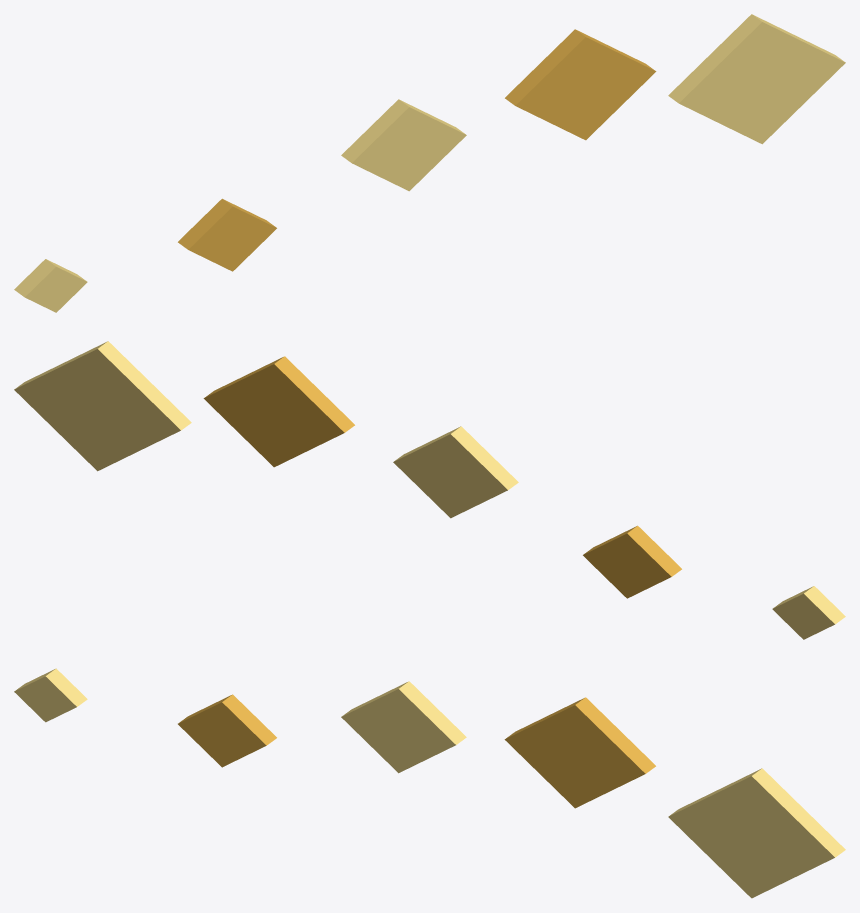
Rendered from help_orb_trail.glb.
The picture shows the model from 3 angles, top to bottom: view 1: azimuth 30°, elevation 25°; view 2: azimuth 150°, elevation 25°; view 3: azimuth 330°, elevation 25°; orthographic projection.
Parts seen in each view (by area): view 1: trail; view 2: trail; view 3: trail.
Boxes of the visible parts, left/top/right/bottom form: trail: left=14, top=14, right=845, bottom=312; trail: left=14, top=341, right=845, bottom=639; trail: left=14, top=668, right=845, bottom=898.
Bounding box in the file's own units: 0.0884 × 0.0155 × 0.002.
